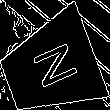N_W: (23, 39, 78, 95)
